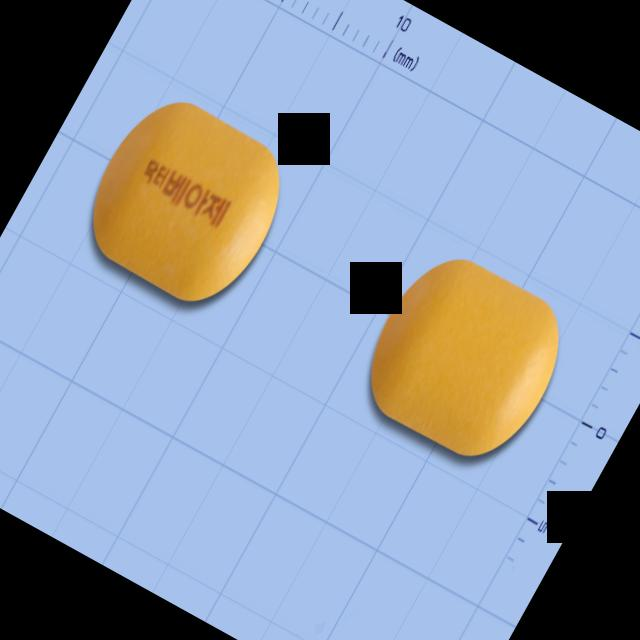Dr- Bearse: (67, 81, 305, 322)
